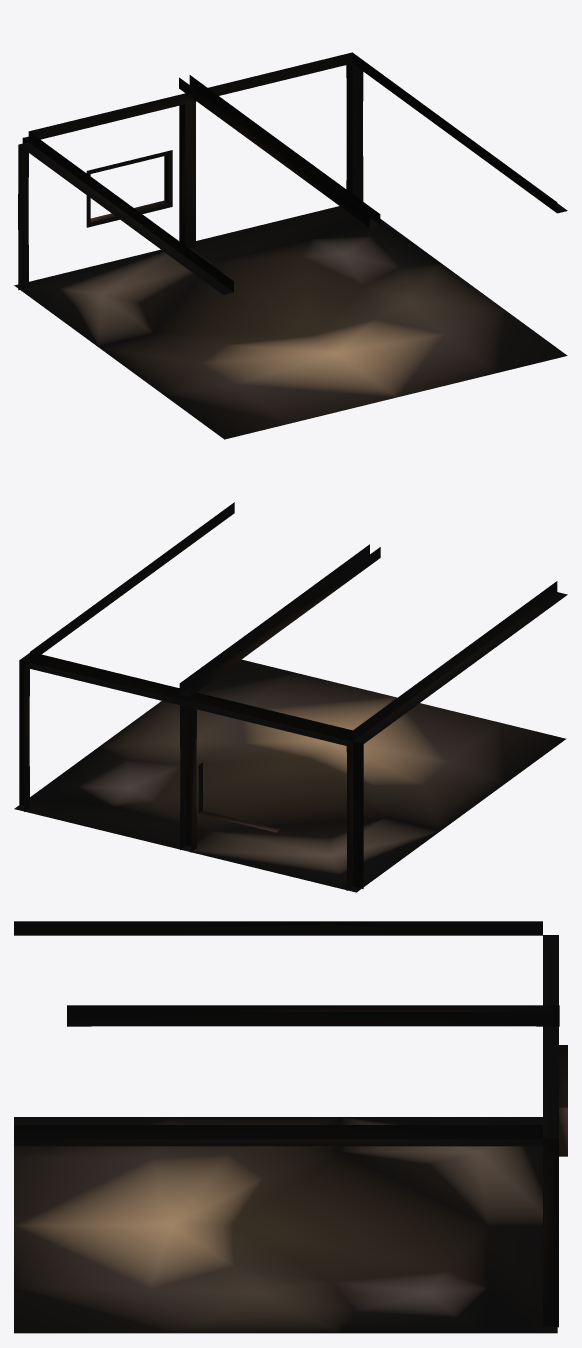
The model's file is Room_000005.fbx.
3 views of the same model, one above another, from view 1: azimuth 30°, elevation 25°; view 2: azimuth 150°, elevation 25°; view 3: azimuth 270°, elevation 25° (orthographic). The views are drawn at different scales.
Parts seen in each view (by area): view 1: polySurface292; view 2: polySurface292; view 3: polySurface292.
Boxes of the visible parts, bbox=[...] form: polySurface292: bbox=[14, 52, 567, 439]; polySurface292: bbox=[14, 502, 567, 892]; polySurface292: bbox=[14, 921, 567, 1333].
Size of the model in its own units: 817 by 520 by 879.
